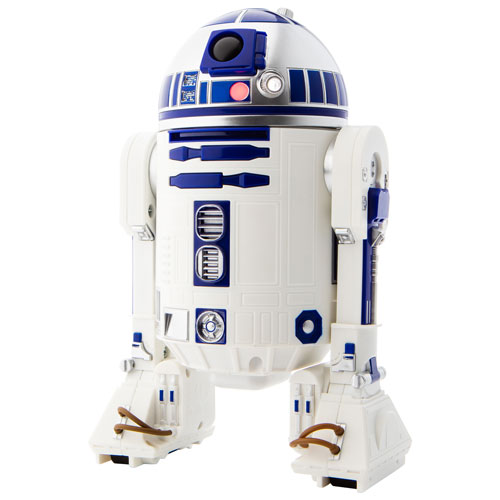r2d2: (90, 5, 412, 492)
